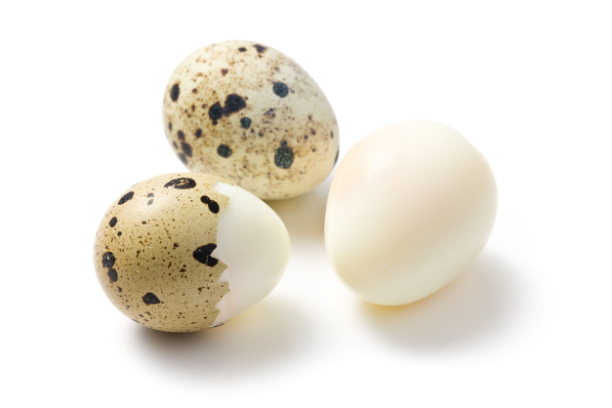egg: (83, 167, 303, 350), (328, 110, 511, 328), (157, 33, 351, 216)
